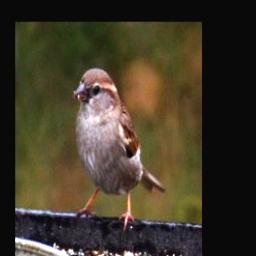Sparrow: (71, 65, 166, 234)
